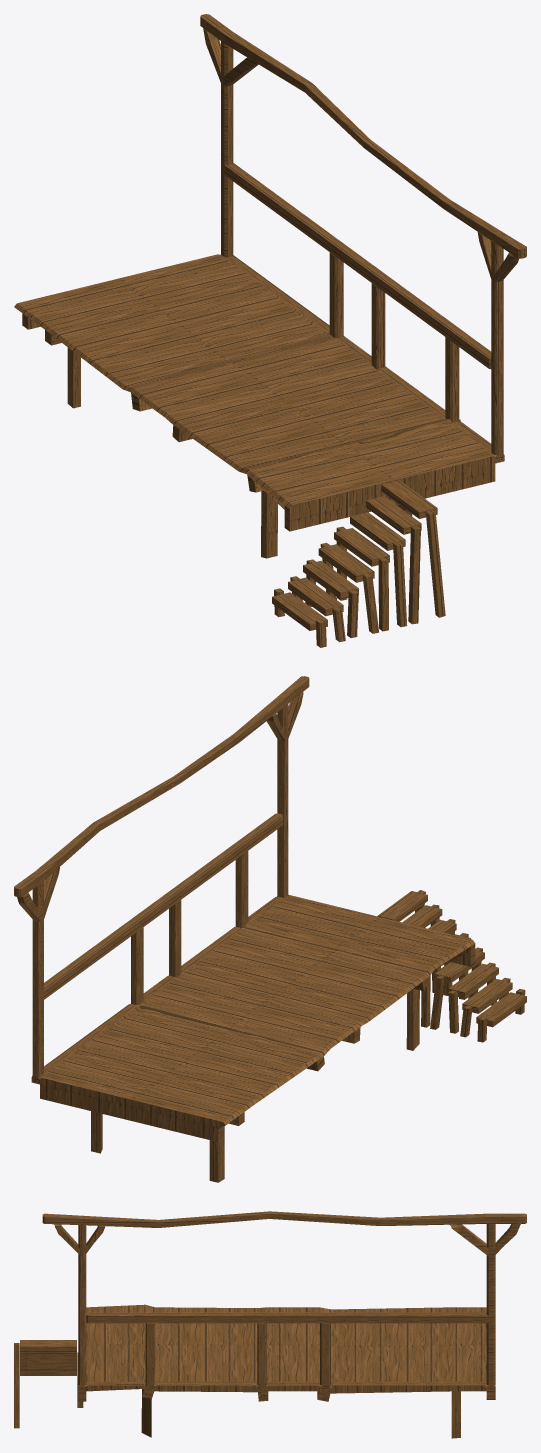
The picture shows the model from 3 angles, top to bottom: view 1: azimuth 30°, elevation 25°; view 2: azimuth 150°, elevation 25°; view 3: azimuth 270°, elevation 25°; orthographic projection. The views are drawn at different scales.
Parts seen in each view (by area): view 1: Scene, Stairs; view 2: Scene, Stairs; view 3: Scene, Stairs.
Boxes of the visible parts, x1=… form: Scene: x1=14, y1=14, x2=526, y2=558; Stairs: x1=272, y1=480, x2=445, y2=647; Scene: x1=14, y1=676, x2=475, y2=1182; Stairs: x1=377, y1=890, x2=526, y2=1042; Scene: x1=42, y1=1211, x2=526, y2=1438; Stairs: x1=14, y1=1340, x2=83, y2=1428.
Bounding box in the file's own units: 1159 × 1522 × 2823.
